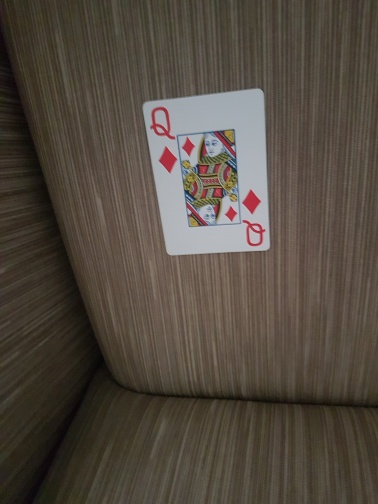queen: (142, 89, 269, 256)
